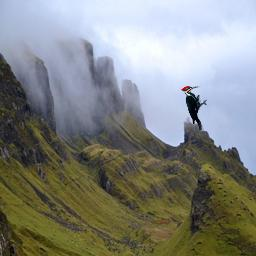Woodpecker: (181, 85, 207, 130)
